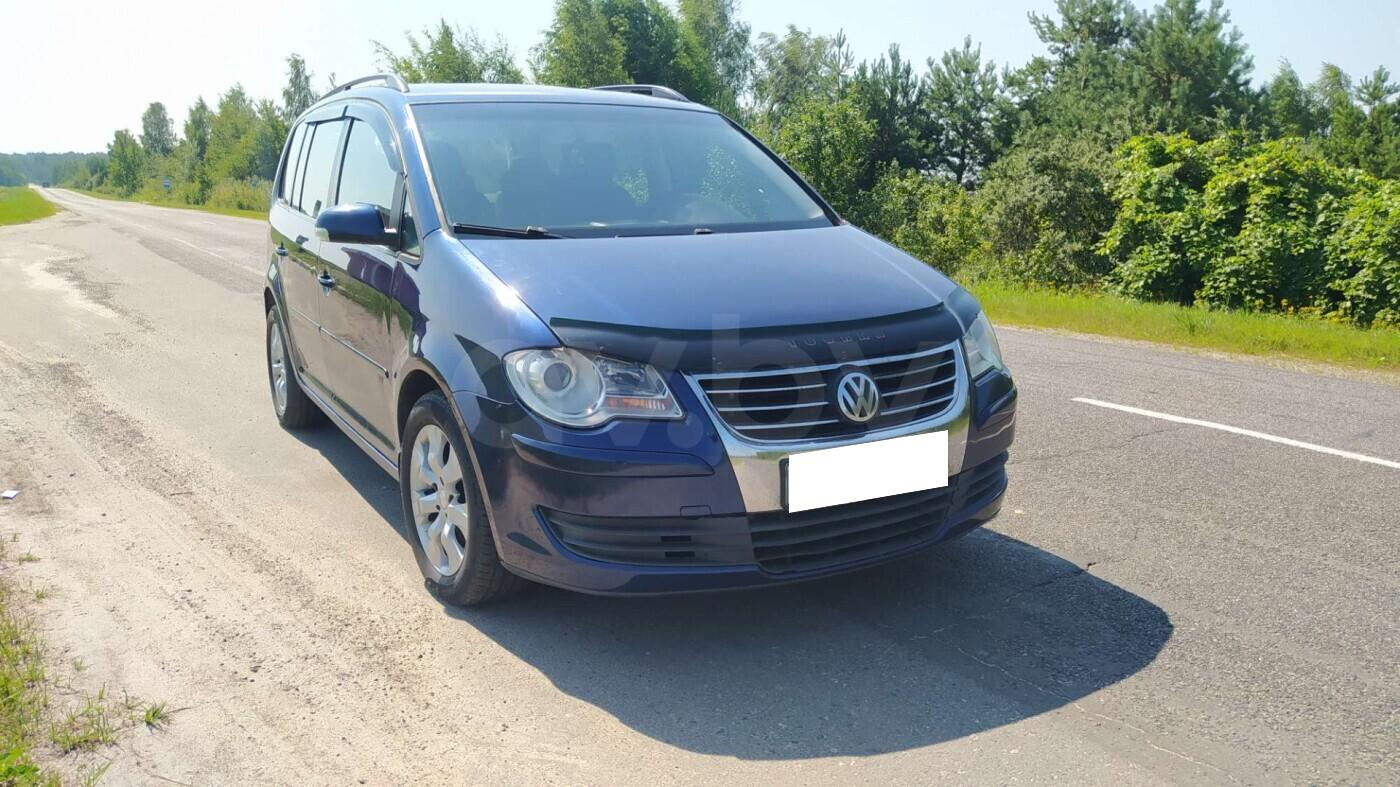Touran_2006-2010: (255, 81, 1008, 618)
